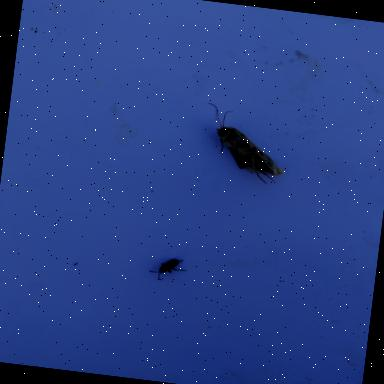abw: (194, 100, 296, 188)
